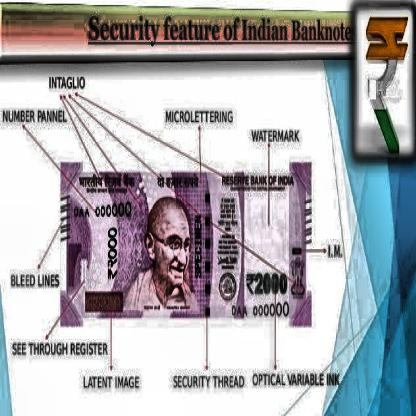Rs2000: (244, 268, 290, 300)
